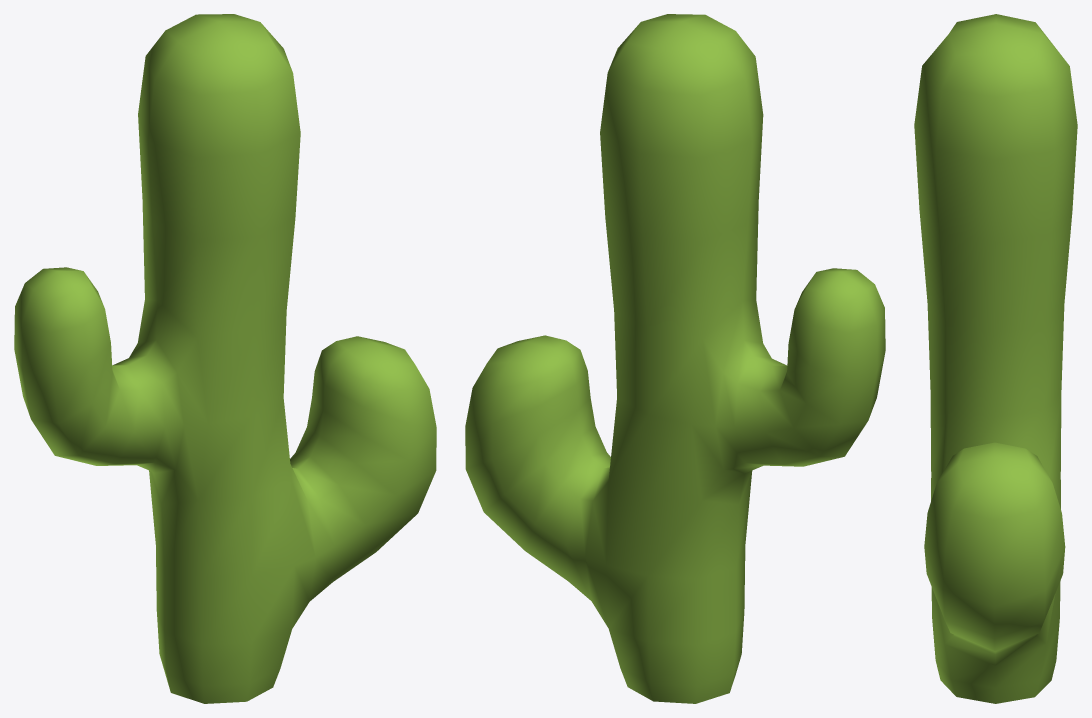
The model's file is Cactus.fbx.
3 renders of one model, left to right at view 1: azimuth 30°, elevation 25°; view 2: azimuth 150°, elevation 25°; view 3: azimuth 270°, elevation 25°, orthographic.
Parts seen in each view (by area): view 1: 3_Cactus; view 2: 3_Cactus; view 3: 3_Cactus.
Boxes of the visible parts, x1,y1,x2,y2 form: 3_Cactus: (14, 14, 436, 703); 3_Cactus: (465, 14, 885, 703); 3_Cactus: (914, 14, 1077, 703).
Size of the model in its own units: 141 by 221 by 49.93.
